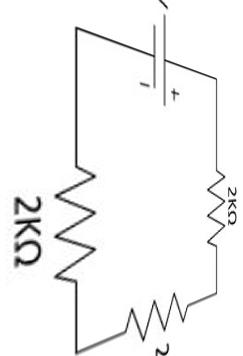resistor: (49, 152, 106, 302), (109, 282, 192, 344), (198, 149, 226, 258)
